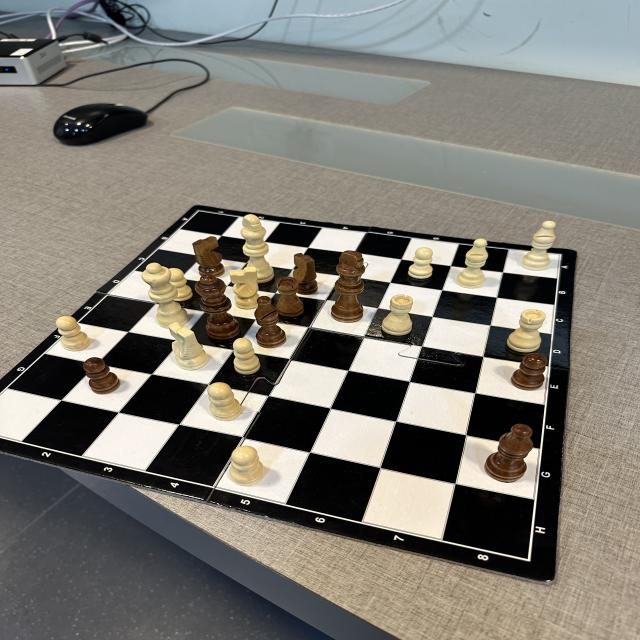Black-Bishop: (484, 423, 534, 482), (254, 296, 288, 348), (233, 338, 261, 375)
Black-King: (330, 250, 366, 323)
Black-Knight: (192, 235, 226, 278), (292, 252, 318, 295)
Black-Pawn: (510, 353, 548, 391), (84, 357, 122, 395)
Black-Queen: (194, 274, 240, 340)
Black-Rook: (275, 276, 305, 317)
White-Bishop: (522, 221, 556, 271), (456, 238, 488, 289)
White-King: (240, 213, 274, 283)
White-Knight: (168, 322, 210, 370), (229, 266, 260, 310)
White-Pawn: (229, 446, 265, 486), (208, 382, 242, 421), (56, 316, 91, 351), (168, 268, 194, 302), (408, 247, 433, 279)
White-Queen: (142, 262, 190, 329)
White-Rook: (506, 308, 546, 353), (381, 294, 413, 336)
